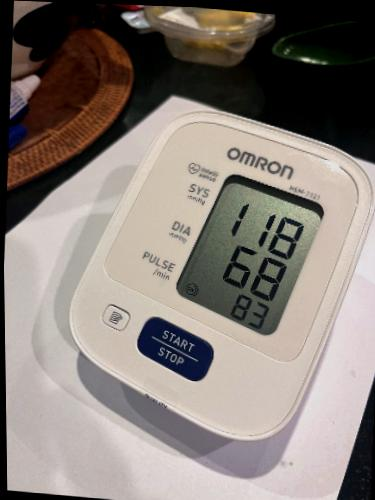bpm: (165, 156, 338, 345)
